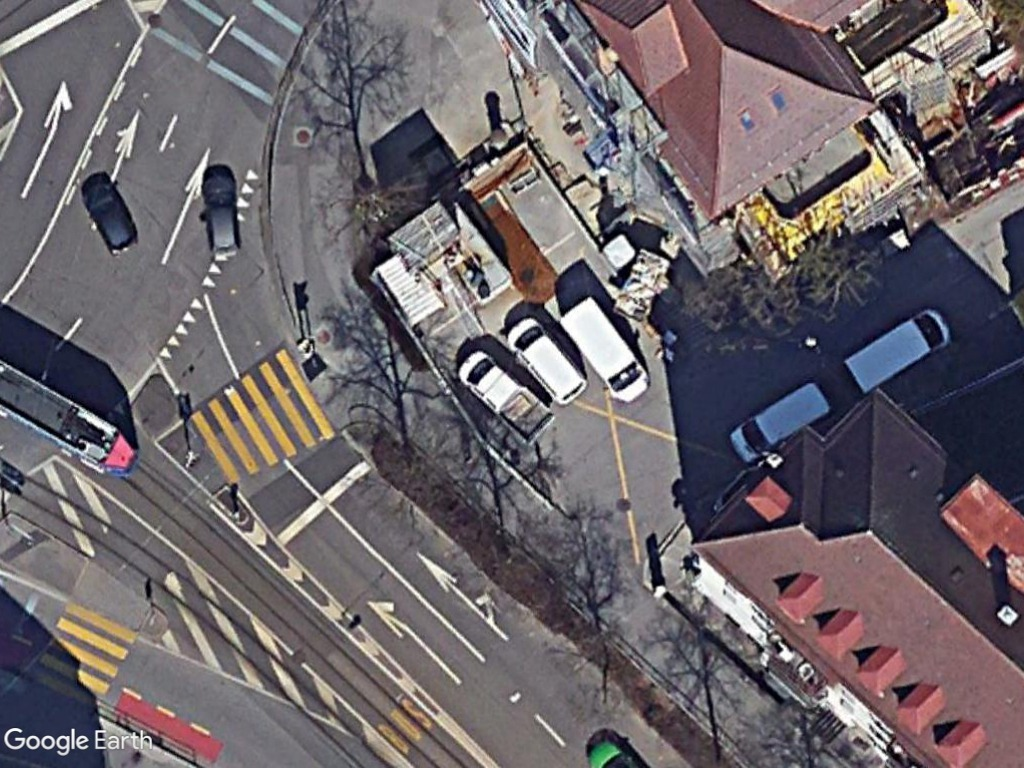others: (456, 350, 555, 444)
van: (556, 298, 653, 405), (839, 305, 953, 395), (725, 376, 830, 470), (503, 312, 587, 405)
